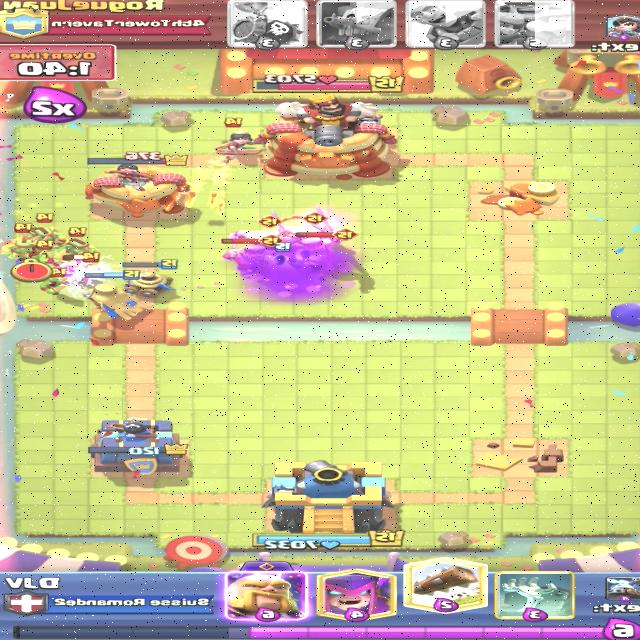Enemy-Barbarian-Evo: (227, 207, 296, 257), (221, 232, 284, 276), (293, 227, 360, 268), (292, 206, 344, 251)
Enemy-Goblin: (61, 252, 100, 281), (38, 268, 76, 296), (25, 242, 61, 268)
Enemy-Princess: (214, 117, 266, 166)
Enemy-SpearGoblin: (53, 227, 100, 262), (27, 213, 66, 253), (1, 224, 38, 260)
Player-Motherwitch: (78, 270, 160, 321)
Player-PEKKA: (231, 1, 308, 51)
Player-Zappy: (121, 258, 179, 297)
